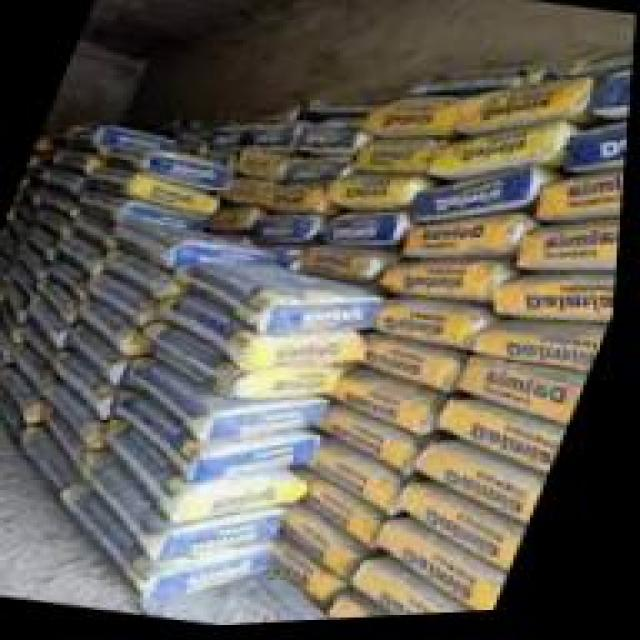gunny_bag: (71, 492, 281, 602), (104, 423, 303, 529), (94, 461, 285, 566), (120, 393, 320, 487), (129, 357, 329, 446), (137, 322, 344, 402), (168, 295, 369, 374), (185, 264, 378, 336), (378, 524, 515, 617), (398, 485, 533, 577), (419, 443, 553, 532), (458, 359, 593, 432), (441, 403, 565, 481), (111, 215, 262, 273), (436, 125, 565, 185), (306, 449, 408, 517), (88, 168, 220, 219), (332, 378, 437, 442), (357, 562, 467, 621), (326, 413, 426, 477), (479, 328, 612, 375), (371, 303, 485, 357), (103, 148, 235, 193), (363, 339, 469, 395), (460, 87, 592, 131), (498, 283, 621, 330), (417, 177, 529, 224), (53, 351, 127, 422), (288, 515, 368, 580), (274, 548, 355, 611), (528, 228, 624, 276), (21, 427, 88, 493), (88, 272, 162, 331), (547, 178, 627, 226), (363, 101, 461, 139), (407, 222, 512, 257), (390, 265, 493, 300), (78, 302, 143, 357), (102, 252, 173, 300), (57, 390, 108, 454), (70, 329, 128, 385), (323, 216, 410, 251), (359, 142, 437, 181), (571, 128, 630, 177), (5, 362, 51, 424), (303, 250, 385, 284), (325, 182, 416, 209), (54, 236, 110, 278), (591, 74, 634, 119), (38, 280, 79, 327), (257, 216, 323, 245), (264, 185, 322, 218), (31, 300, 73, 344), (281, 159, 351, 184), (36, 191, 83, 226), (304, 123, 355, 155), (17, 240, 54, 277), (211, 208, 257, 234)
